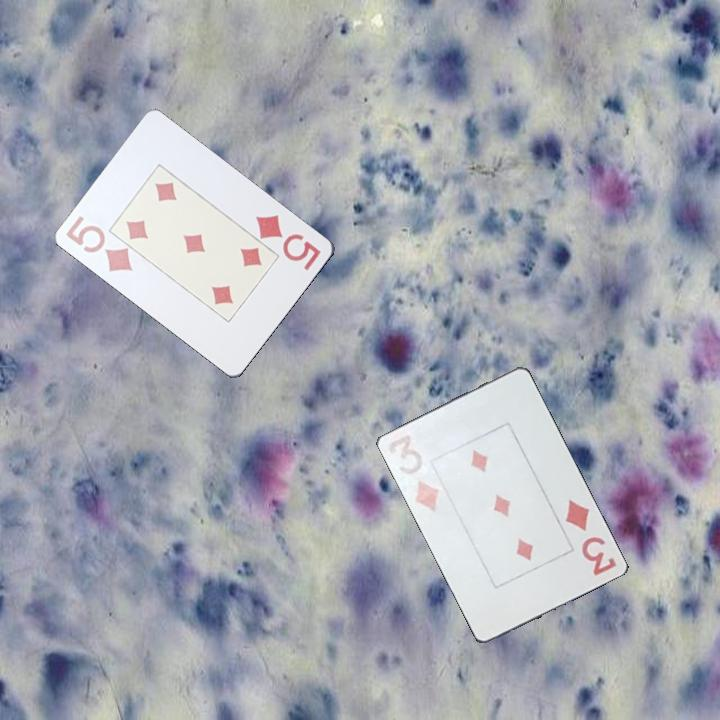3d: (384, 427, 445, 515), (562, 496, 619, 579)
5d: (62, 212, 136, 275), (252, 211, 324, 274)
